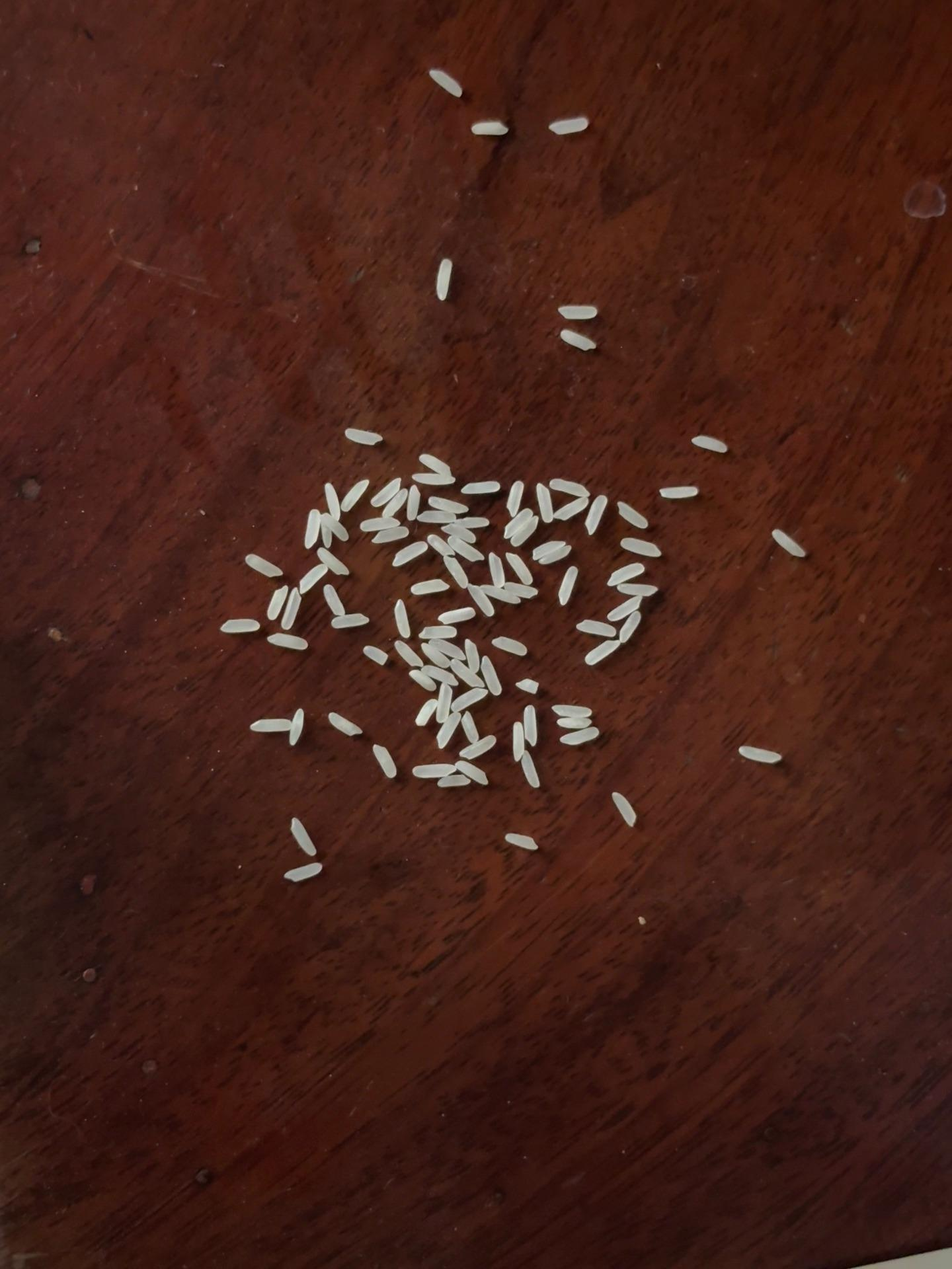Rice-th-y-nh: (581, 495, 610, 536), (289, 817, 318, 857), (606, 594, 643, 624), (450, 658, 485, 689), (279, 588, 304, 630), (518, 705, 543, 747), (447, 535, 484, 563), (584, 638, 621, 666), (435, 711, 462, 749), (459, 734, 497, 761), (479, 582, 520, 607), (502, 507, 534, 539), (428, 68, 463, 97), (467, 583, 496, 618), (606, 561, 645, 587), (419, 453, 455, 481), (479, 656, 504, 696), (340, 479, 370, 512), (317, 547, 350, 577), (504, 552, 534, 585), (510, 515, 540, 548), (772, 529, 806, 558), (433, 682, 456, 724), (451, 686, 488, 712), (298, 563, 328, 595), (426, 637, 466, 661), (506, 722, 530, 762), (442, 555, 470, 589), (616, 501, 650, 529), (534, 482, 557, 523), (420, 663, 459, 687), (392, 541, 428, 567), (611, 791, 637, 827), (556, 566, 580, 605), (371, 477, 402, 507), (620, 536, 662, 558), (455, 759, 489, 786), (245, 554, 283, 578), (372, 744, 398, 779), (411, 761, 456, 781), (393, 640, 424, 669), (420, 641, 452, 669), (460, 638, 484, 675), (554, 496, 589, 521), (327, 712, 363, 736), (549, 477, 590, 498), (391, 599, 413, 638), (321, 512, 350, 541), (266, 631, 308, 651), (302, 509, 323, 549), (381, 488, 408, 519), (618, 610, 643, 643), (576, 618, 617, 638), (617, 580, 658, 600), (560, 726, 599, 747), (287, 708, 308, 747), (738, 745, 781, 764), (491, 635, 528, 657), (266, 585, 289, 620), (520, 750, 541, 788), (322, 584, 346, 617), (486, 552, 508, 588), (504, 481, 526, 517), (538, 544, 572, 567), (284, 862, 323, 882), (372, 525, 409, 546), (442, 522, 477, 544), (322, 482, 342, 520), (428, 496, 468, 515), (560, 329, 596, 350), (549, 117, 588, 136), (417, 507, 456, 526), (435, 259, 453, 300), (531, 540, 566, 561), (412, 470, 455, 487), (459, 711, 481, 744), (414, 698, 439, 727), (438, 606, 476, 625), (504, 579, 538, 600), (250, 717, 292, 734), (404, 484, 423, 521), (330, 612, 369, 630), (410, 578, 449, 596), (427, 534, 455, 558), (408, 669, 437, 692), (471, 119, 508, 137), (558, 304, 597, 321), (692, 435, 728, 453), (419, 624, 457, 641), (658, 484, 698, 500), (360, 516, 400, 532), (220, 618, 260, 634), (345, 428, 382, 445), (552, 703, 591, 719), (505, 833, 538, 851), (461, 480, 500, 495), (556, 715, 592, 731), (362, 644, 389, 665), (437, 772, 470, 789), (453, 515, 490, 530), (515, 677, 540, 695), (319, 523, 334, 549)
